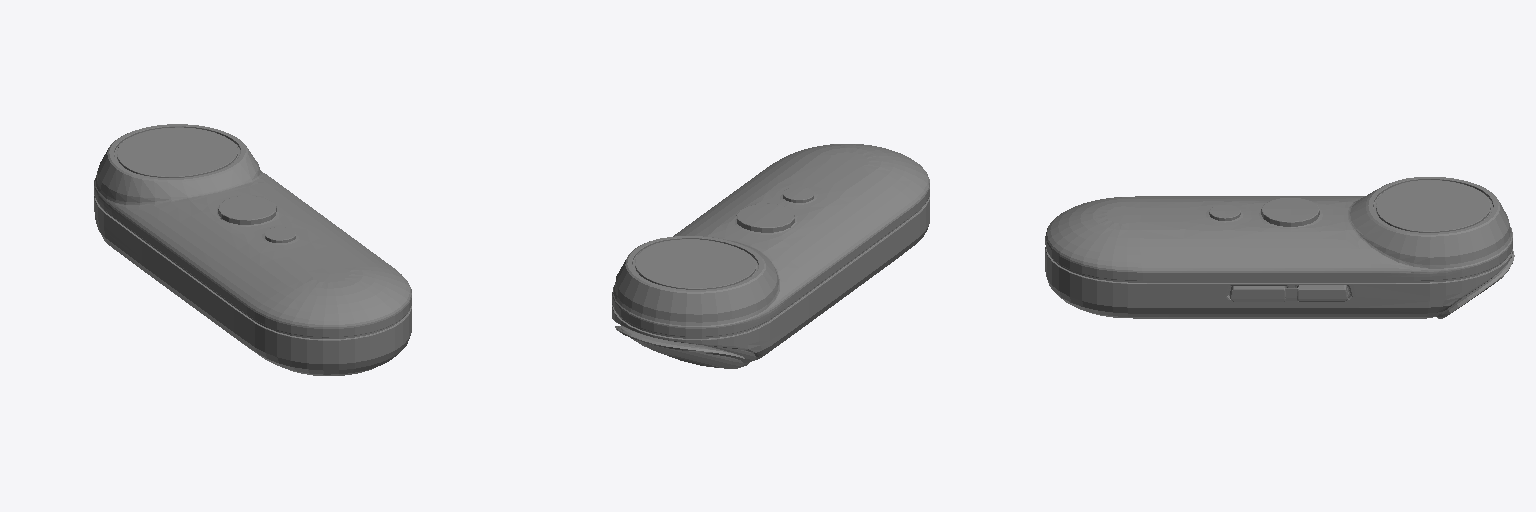
Rendered from vr_controller_focus.obj.
3 renders of one model, left to right at view 1: azimuth 30°, elevation 25°; view 2: azimuth 150°, elevation 25°; view 3: azimuth 270°, elevation 25°, orthographic.
Parts seen in each view (by area): view 1: vr_controller_focus; view 2: vr_controller_focus; view 3: vr_controller_focus.
Boxes of the visible parts, x1=… form: vr_controller_focus: x1=94, y1=124, x2=411, y2=375; vr_controller_focus: x1=612, y1=144, x2=929, y2=368; vr_controller_focus: x1=1045, y1=177, x2=1514, y2=318.
Bounding box in the file's own units: 0.0543 × 0.0328 × 0.1428.